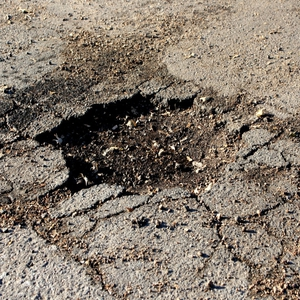pothole: (46, 94, 239, 199)
